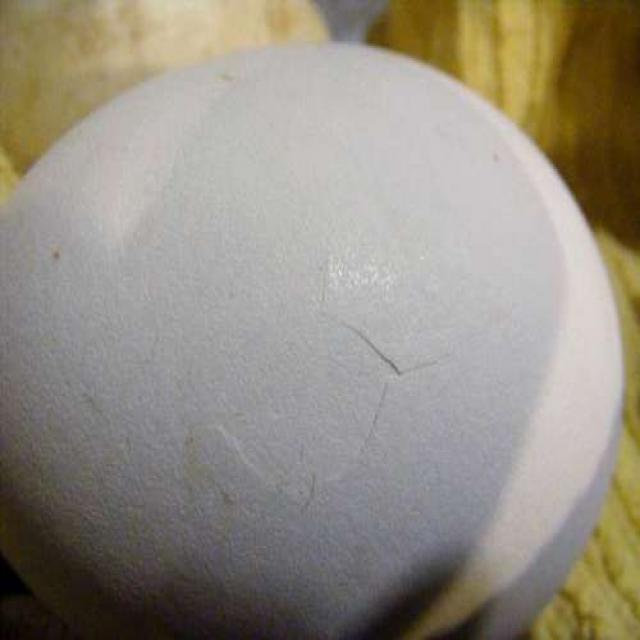biodegradable: (6, 37, 621, 640)
